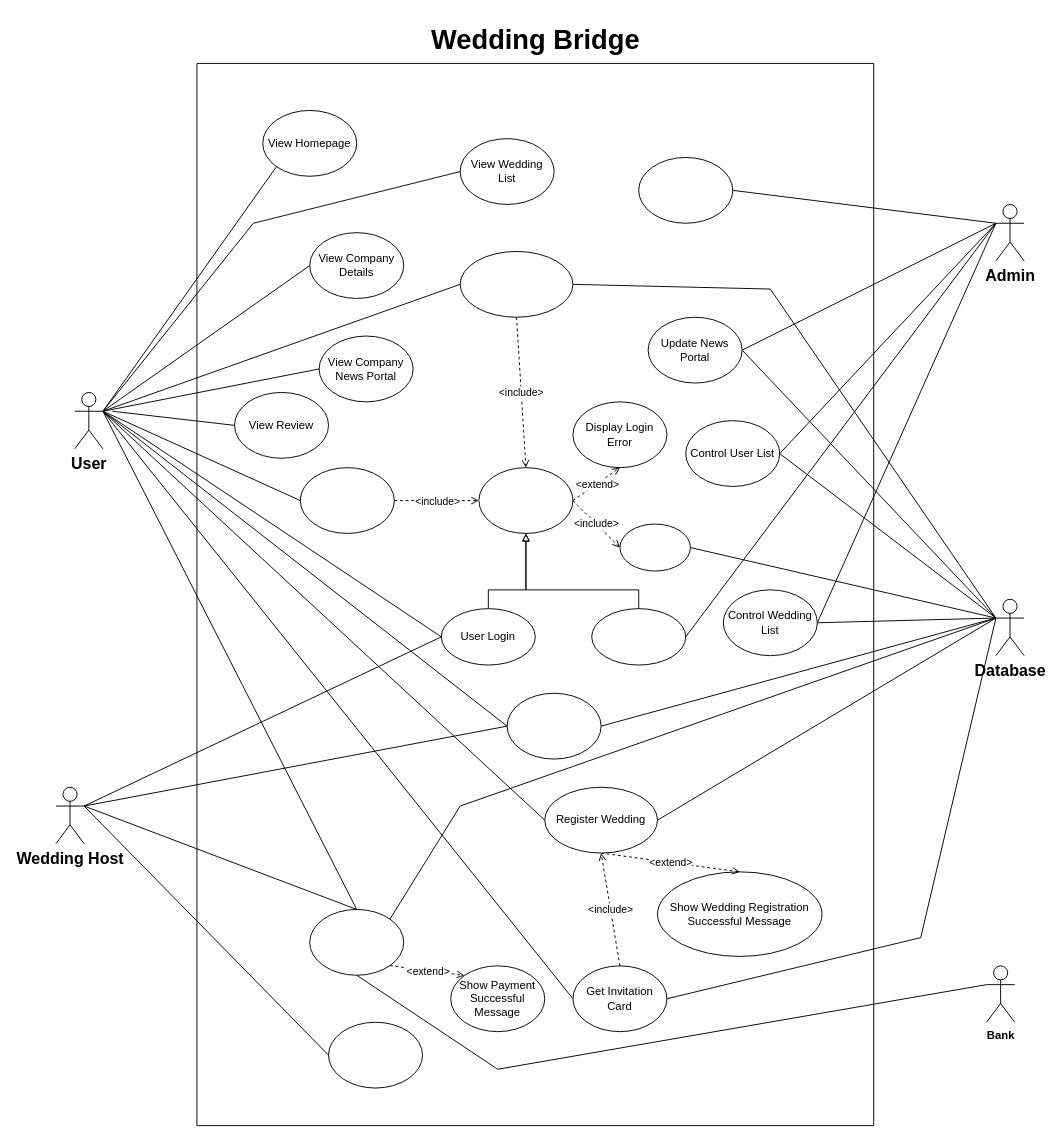
This 1061x1142 diagram has some shape labels left out. The centre of each missing label's shape, as x and y in pixels:
Admin Login: the point at 638,636
Host Wedding: the point at 375,1054
Login: the point at 525,500
Monitor System Activity report: the point at 685,190
Payment: the point at 356,942
Update User Profile Information: the point at 516,284
User Registration: the point at 553,725
Varify Password: the point at 654,547
View Wedding Details: the point at 346,500
